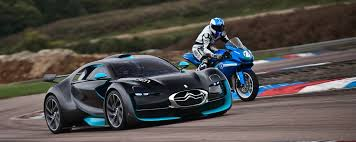Car: (44, 55, 231, 133)
Motorbike: (209, 37, 259, 101)
Person: (192, 18, 229, 70)
